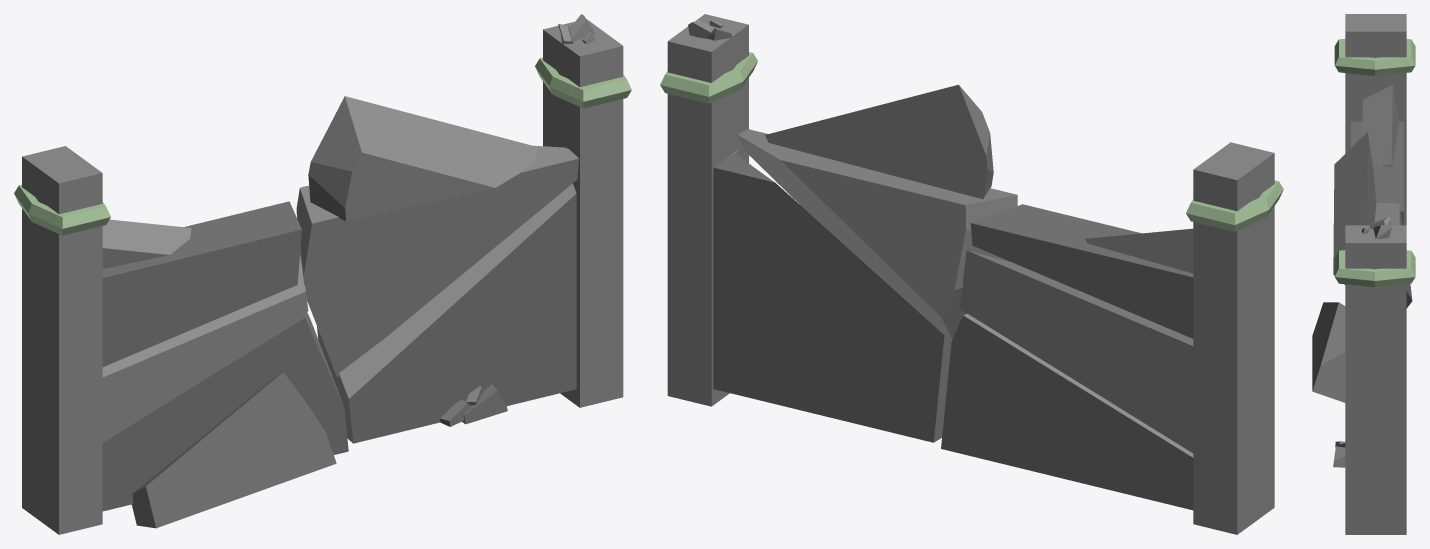
The model's file is wall_sided.glb.
3 renders of one model, left to right at view 1: azimuth 30°, elevation 25°; view 2: azimuth 150°, elevation 25°; view 3: azimuth 270°, elevation 25°, orthographic. The views are drawn at different scales.
Visible parts, largest first — view 1: Wall 2.0; view 2: Wall 2.0; view 3: Wall 2.0.
Part boxes in pixels (<box>): Wall 2.0: <box>14,14,631,534</box>; Wall 2.0: <box>660,14,1283,534</box>; Wall 2.0: <box>1312,14,1415,534</box>.
Bounding box in the file's own units: 10.89 × 6.66 × 1.99.
